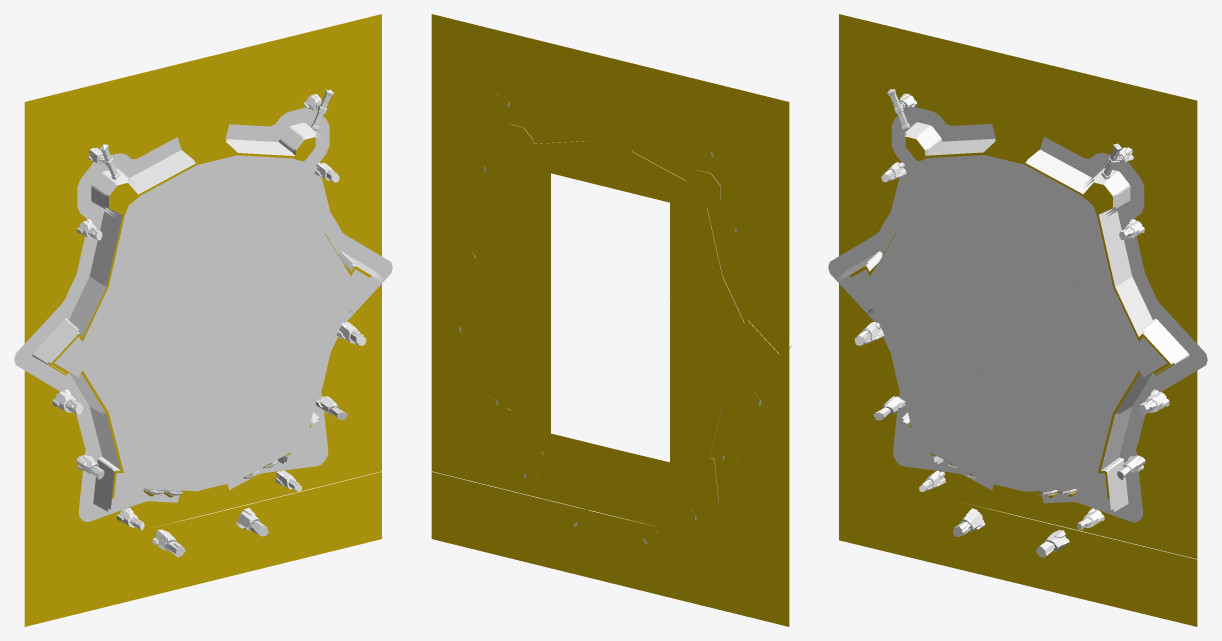
Rendered from bgr_mad_evil_manor_ground.glb.
3 renders of one model, left to right at view 1: azimuth 30°, elevation 25°; view 2: azimuth 150°, elevation 25°; view 3: azimuth 330°, elevation 25°, orthographic.
Parts seen in each view (by area): view 1: ground_3vs3.008, ground, lava_glow__lowperf, Vert.004, track_t_support_top.009, Cylinder.066, Cylinder.055, Cylinder.070; view 2: ground_3vs3.008; view 3: ground_3vs3.008, ground, lava_glow__lowperf, Vert.004, track_t_support_top.009, Cylinder.066, Cylinder.055, Cylinder.070.
Part boxes in pixels (<box>): ground_3vs3.008: <box>24,14,381,626</box>; ground: <box>54,155,379,506</box>; lava_glow__lowperf: <box>14,107,392,521</box>; Vert.004: <box>48,134,382,509</box>; track_t_support_top.009: <box>99,89,333,179</box>; Cylinder.066: <box>152,508,260,550</box>; Cylinder.055: <box>52,322,359,412</box>; Cylinder.070: <box>76,396,339,473</box>; ground_3vs3.008: <box>431,14,789,626</box>; ground_3vs3.008: <box>839,14,1197,626</box>; ground: <box>841,155,1167,507</box>; lava_glow__lowperf: <box>828,107,1207,522</box>; Vert.004: <box>838,133,1173,510</box>; track_t_support_top.009: <box>887,89,1121,179</box>; Cylinder.066: <box>960,508,1069,551</box>; Cylinder.055: <box>861,322,1169,412</box>; Cylinder.070: <box>881,396,1145,474</box>.
Bounding box in the file's own units: 48.84 × 64.79 × 4.41.
